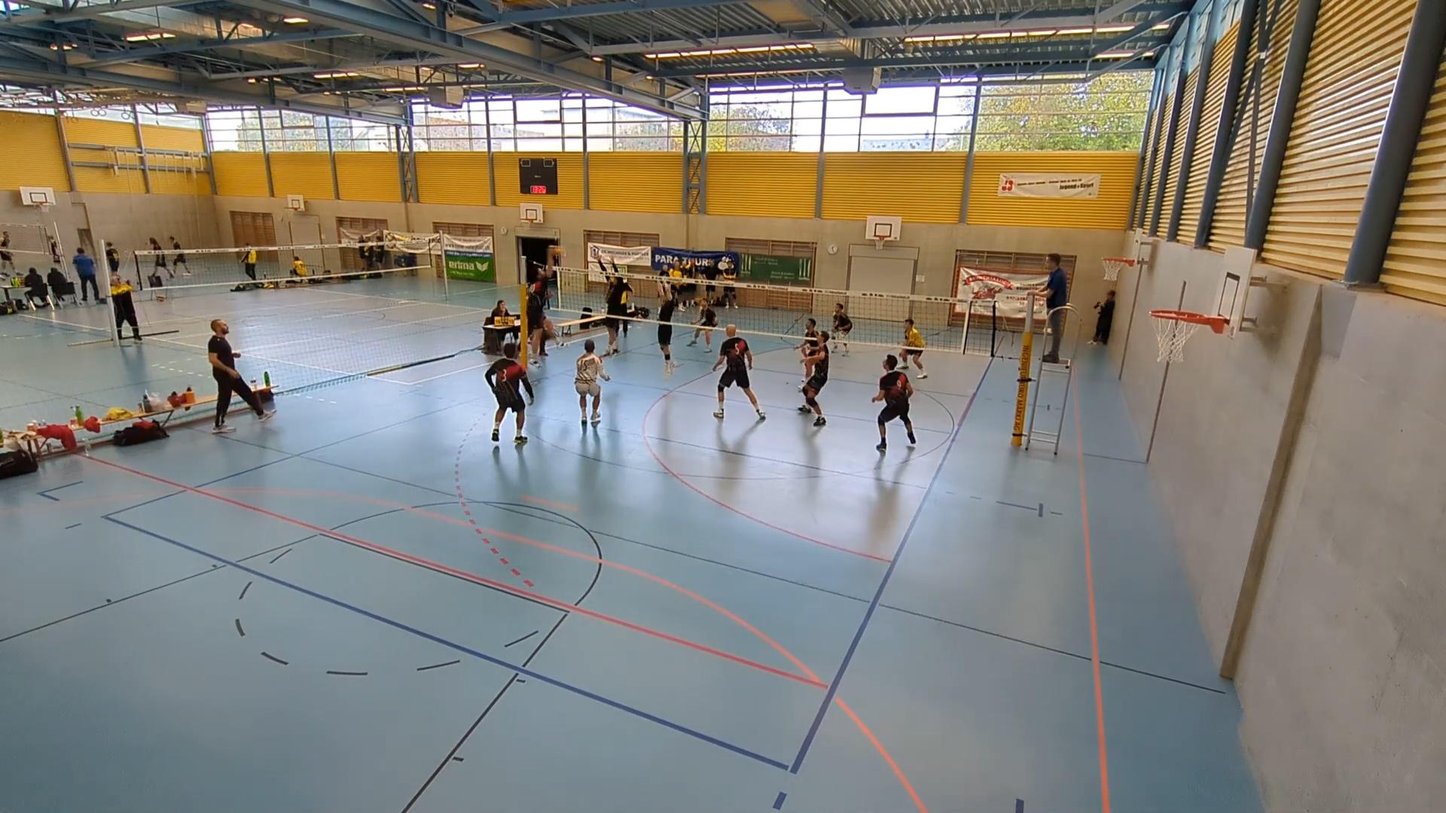attacco: (523, 240, 557, 368)
muro: (586, 245, 629, 361), (644, 262, 680, 369)
